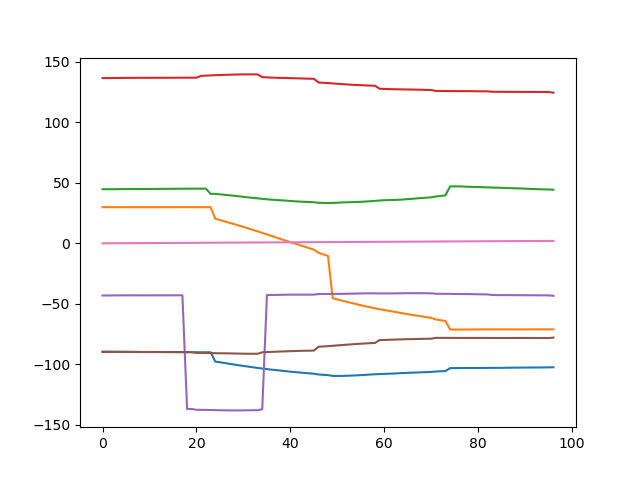Good_Bicep_Curl: (1, 1, 638, 479)
